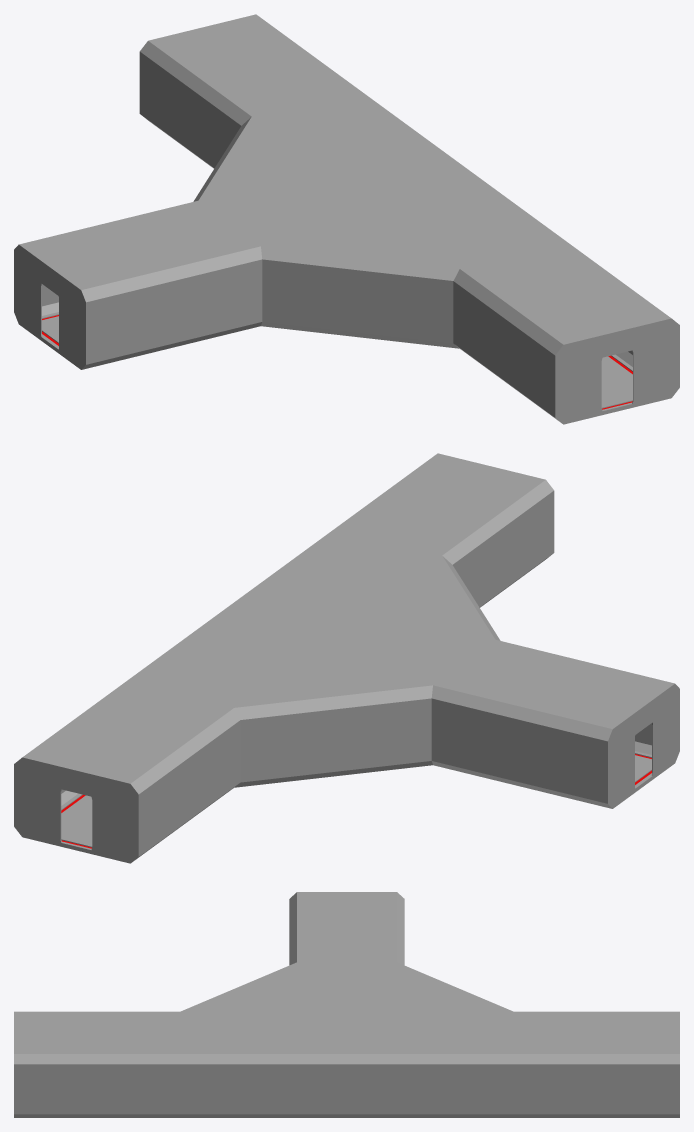
The model's file is HallwayJunctionNES.fbx.
3 renders of one model, top to bottom at view 1: azimuth 30°, elevation 25°; view 2: azimuth 150°, elevation 25°; view 3: azimuth 270°, elevation 25°, orthographic. The views are drawn at different scales.
Visible parts, largest first — view 1: HallwayJunctionNES; view 2: HallwayJunctionNES; view 3: HallwayJunctionNES.
Part boxes in pixels (x1,y1,x2,y2): HallwayJunctionNES: (14,14,679,424); HallwayJunctionNES: (14,453,679,863); HallwayJunctionNES: (14,892,679,1117).
Size of the model in its own units: 1761 by 318 by 3001.
